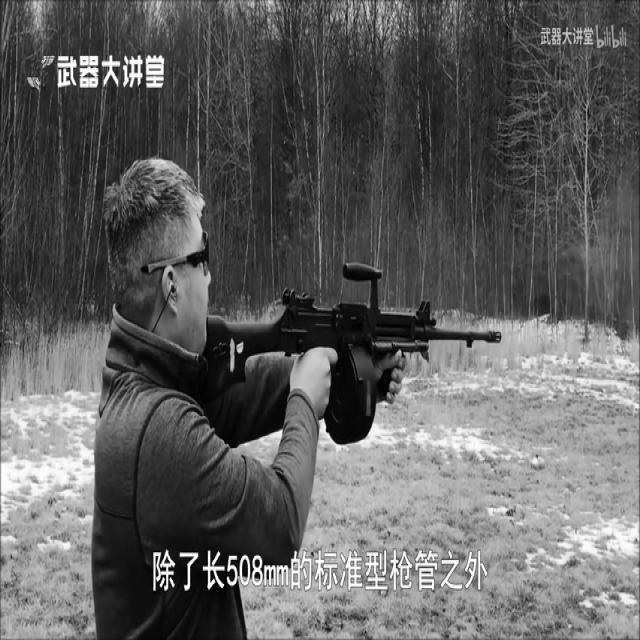Sniper: (135, 181, 546, 522)
